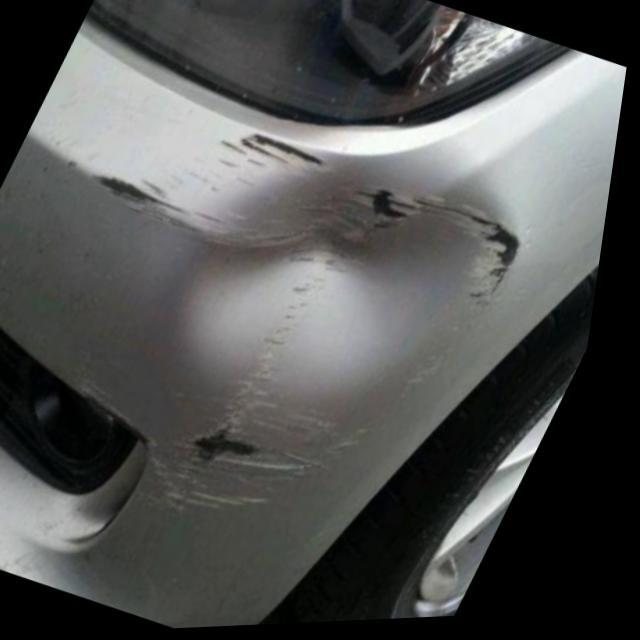rub: (178, 162, 470, 401), (371, 193, 528, 306), (156, 438, 283, 511)
scratch: (95, 173, 226, 226), (224, 136, 334, 172), (198, 429, 287, 463), (265, 460, 338, 486)
